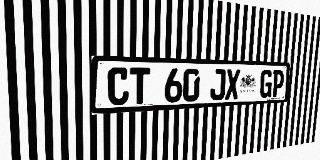0: (182, 68, 200, 102)
6: (164, 68, 183, 103)
C: (107, 67, 129, 106)
G: (259, 70, 273, 98)
J: (210, 69, 226, 100)
P: (271, 70, 285, 97)
T: (130, 67, 150, 105)
X: (225, 69, 240, 100)
